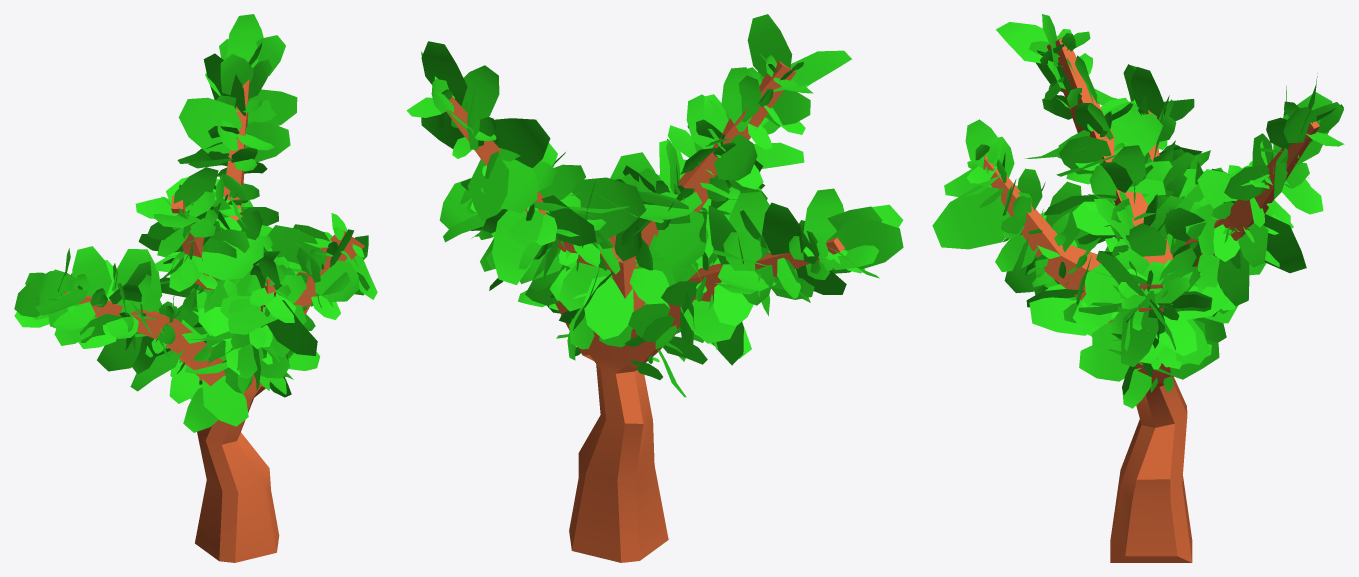
Rendered from Tree.fbx.
The picture shows the model from 3 angles, left to right: view 1: azimuth 30°, elevation 25°; view 2: azimuth 150°, elevation 25°; view 3: azimuth 270°, elevation 25°; orthographic projection. The views are drawn at different scales.
Visible parts, largest first — view 1: Cube.002; view 2: Cube.002; view 3: Cube.002.
Boxes of the visible parts, x1,y1,x2,y2 form: Cube.002: [14, 14, 377, 562]; Cube.002: [406, 14, 903, 562]; Cube.002: [932, 14, 1344, 562].
Size of the model in its own units: 259 by 303 by 217.
